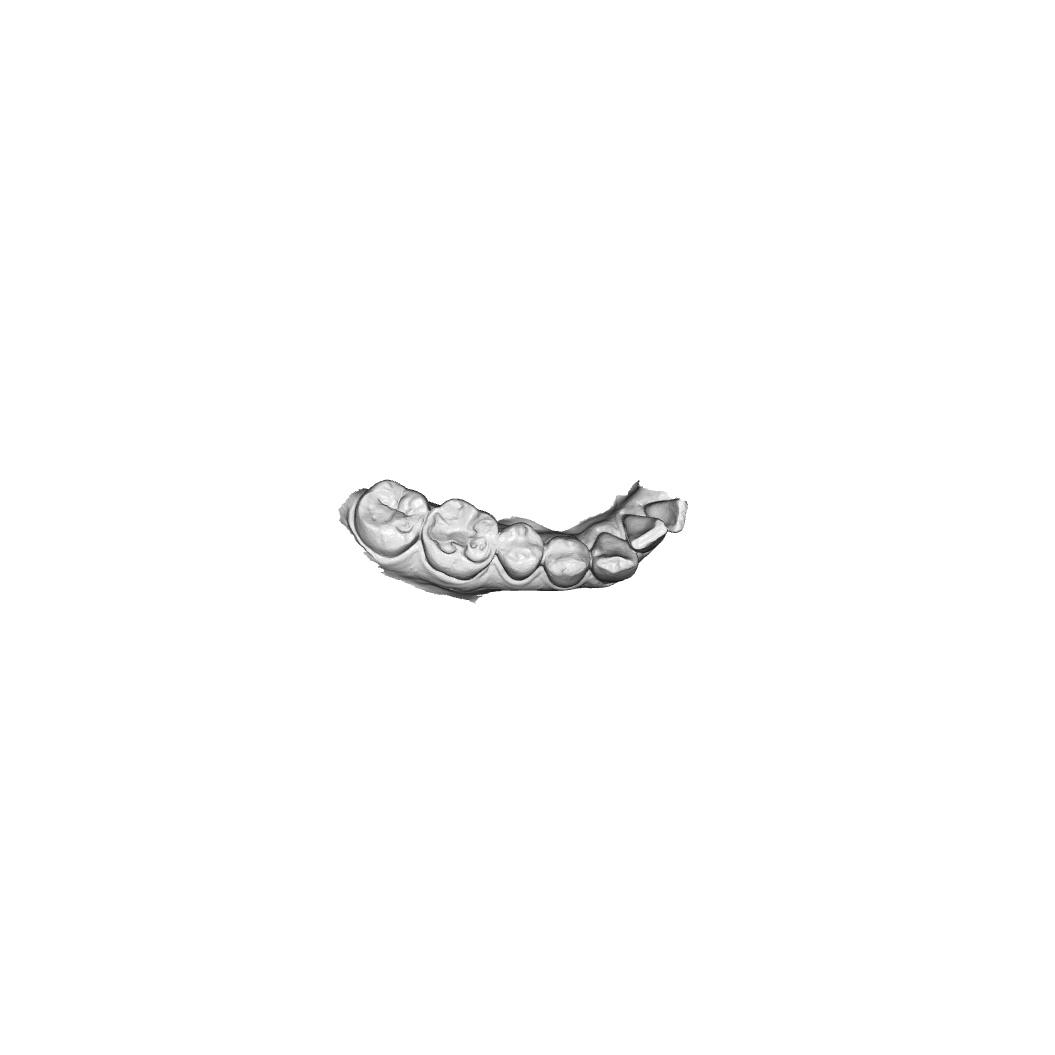canine: (590, 531, 640, 584)
incisor: (621, 513, 669, 554), (642, 496, 690, 534)
molar: (420, 497, 499, 581), (354, 477, 431, 559)
premolar: (498, 521, 545, 582), (543, 535, 591, 589)
